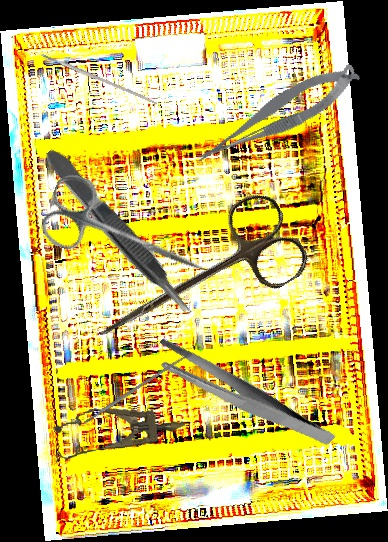Dressing Forceps: (148, 303, 337, 487)
Iris Scissors: (78, 185, 315, 380), (35, 169, 218, 300)
Micro Scissor: (183, 57, 370, 171)
Scalpel Handle: (82, 354, 187, 425), (40, 51, 158, 106)
Speculum: (50, 399, 188, 463)
Tissue Forceps: (40, 141, 199, 324)
